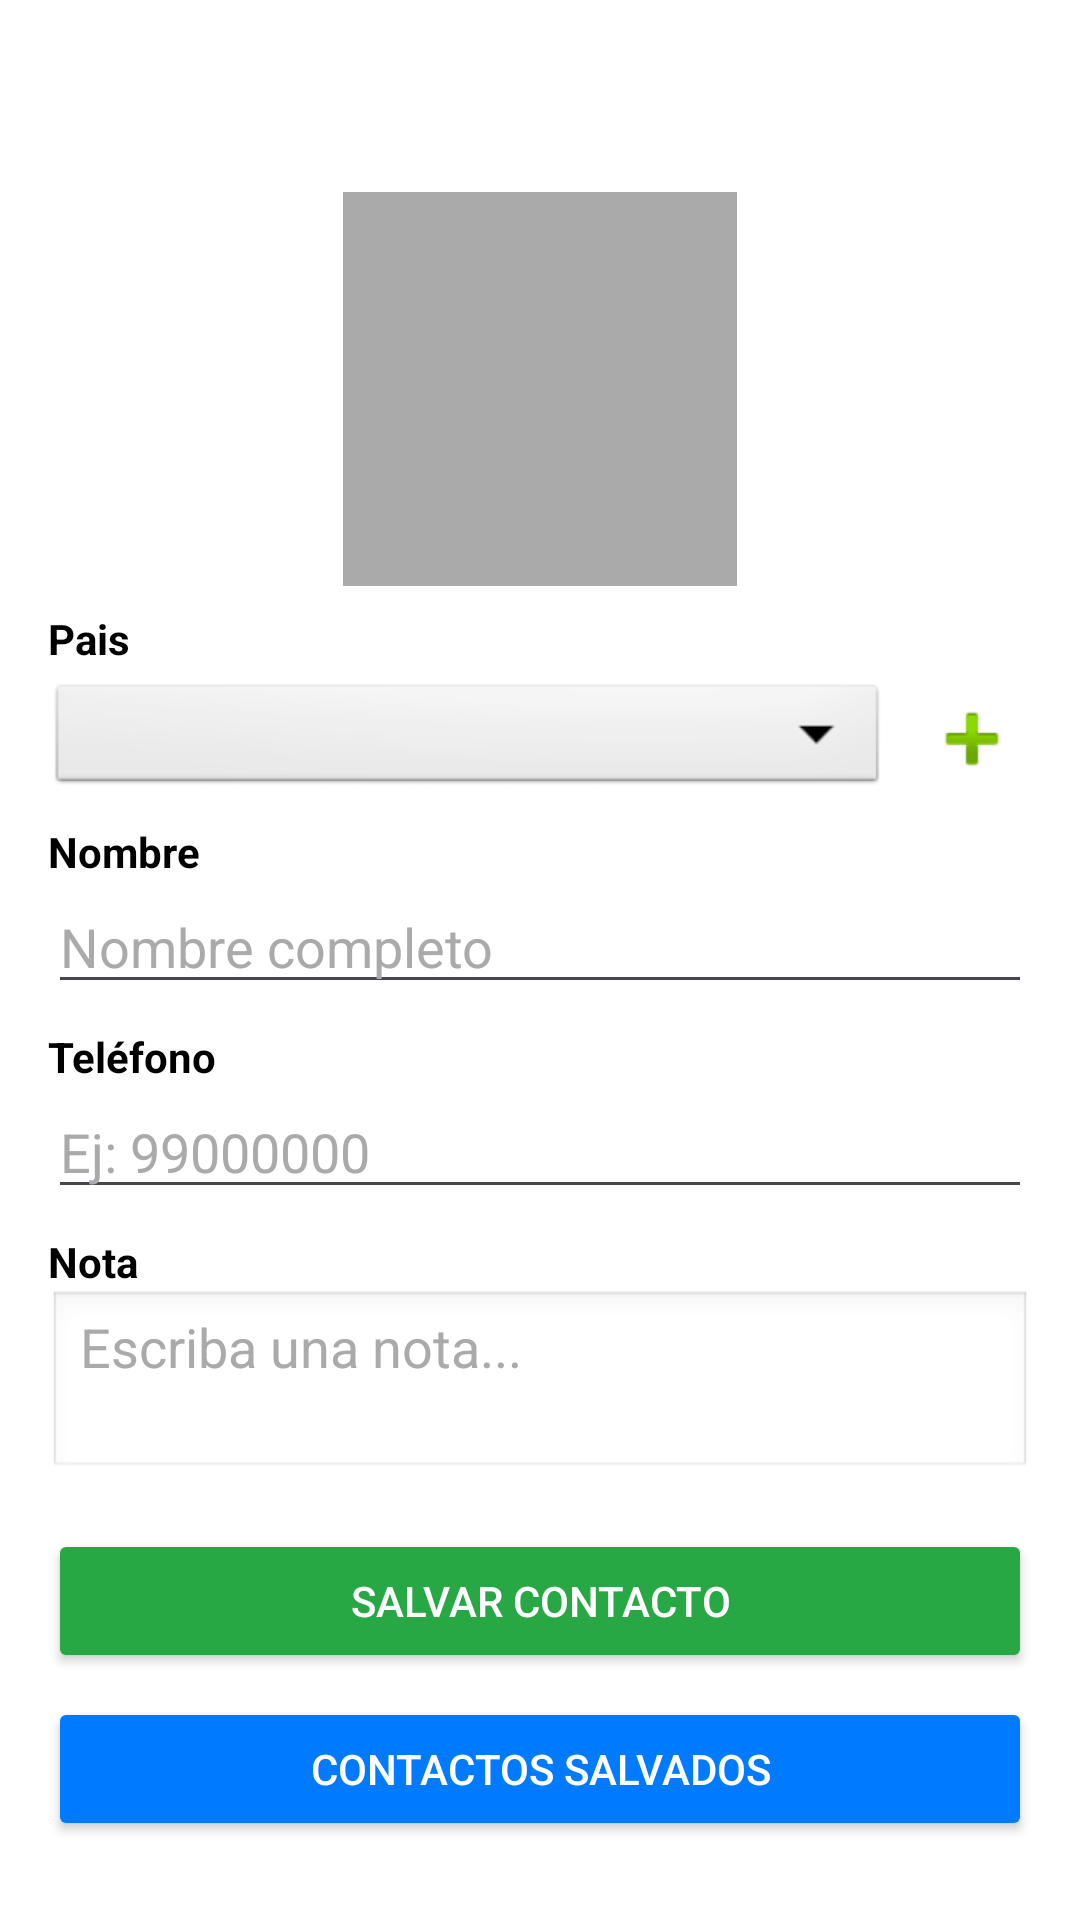

Where icons sit on this 1080 × 1920 app screen, as (x1, y1, x2, y2):
add: (945, 712, 999, 766)
